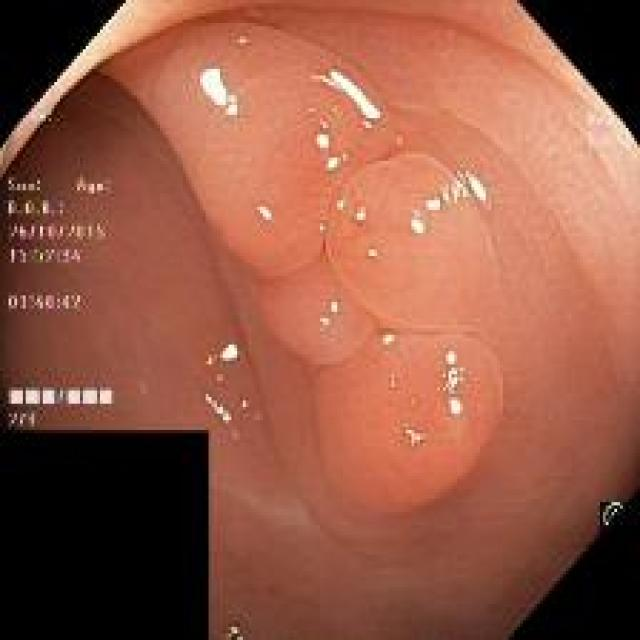Polyps: (139, 22, 395, 278), (314, 333, 504, 518), (326, 152, 499, 332), (261, 251, 378, 365)
